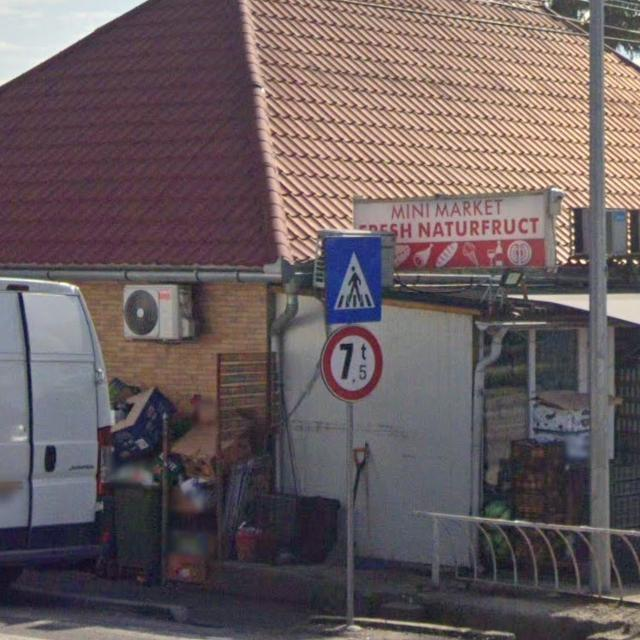info_crosswalk: (325, 233, 383, 323)
